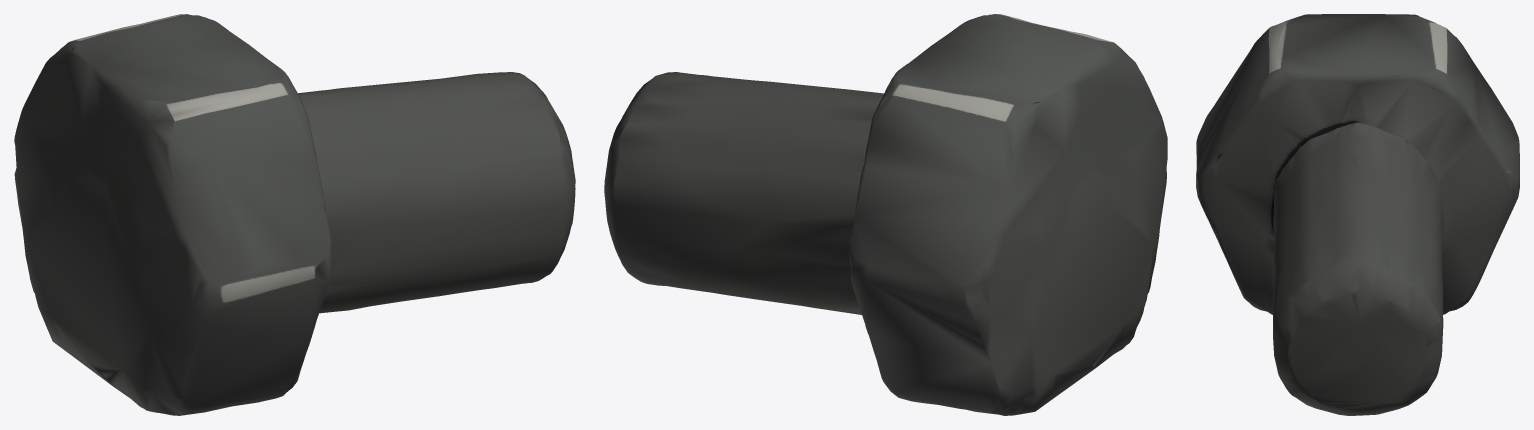
Rendered from 14_debris_short_bolt.fbx.
3 renders of one model, left to right at view 1: azimuth 30°, elevation 25°; view 2: azimuth 150°, elevation 25°; view 3: azimuth 270°, elevation 25°, orthographic. The views are drawn at different scales.
Visible parts, largest first — view 1: 14_debris_short_bolt; view 2: 14_debris_short_bolt; view 3: 14_debris_short_bolt.
Part boxes in pixels (<box>): 14_debris_short_bolt: <box>14,14,575,415</box>; 14_debris_short_bolt: <box>604,14,1167,415</box>; 14_debris_short_bolt: <box>1196,14,1519,415</box>.
Bounding box in the file's own units: 0.1 × 0.0652 × 0.0752.
Materials: 1 (1 with a texture image).
